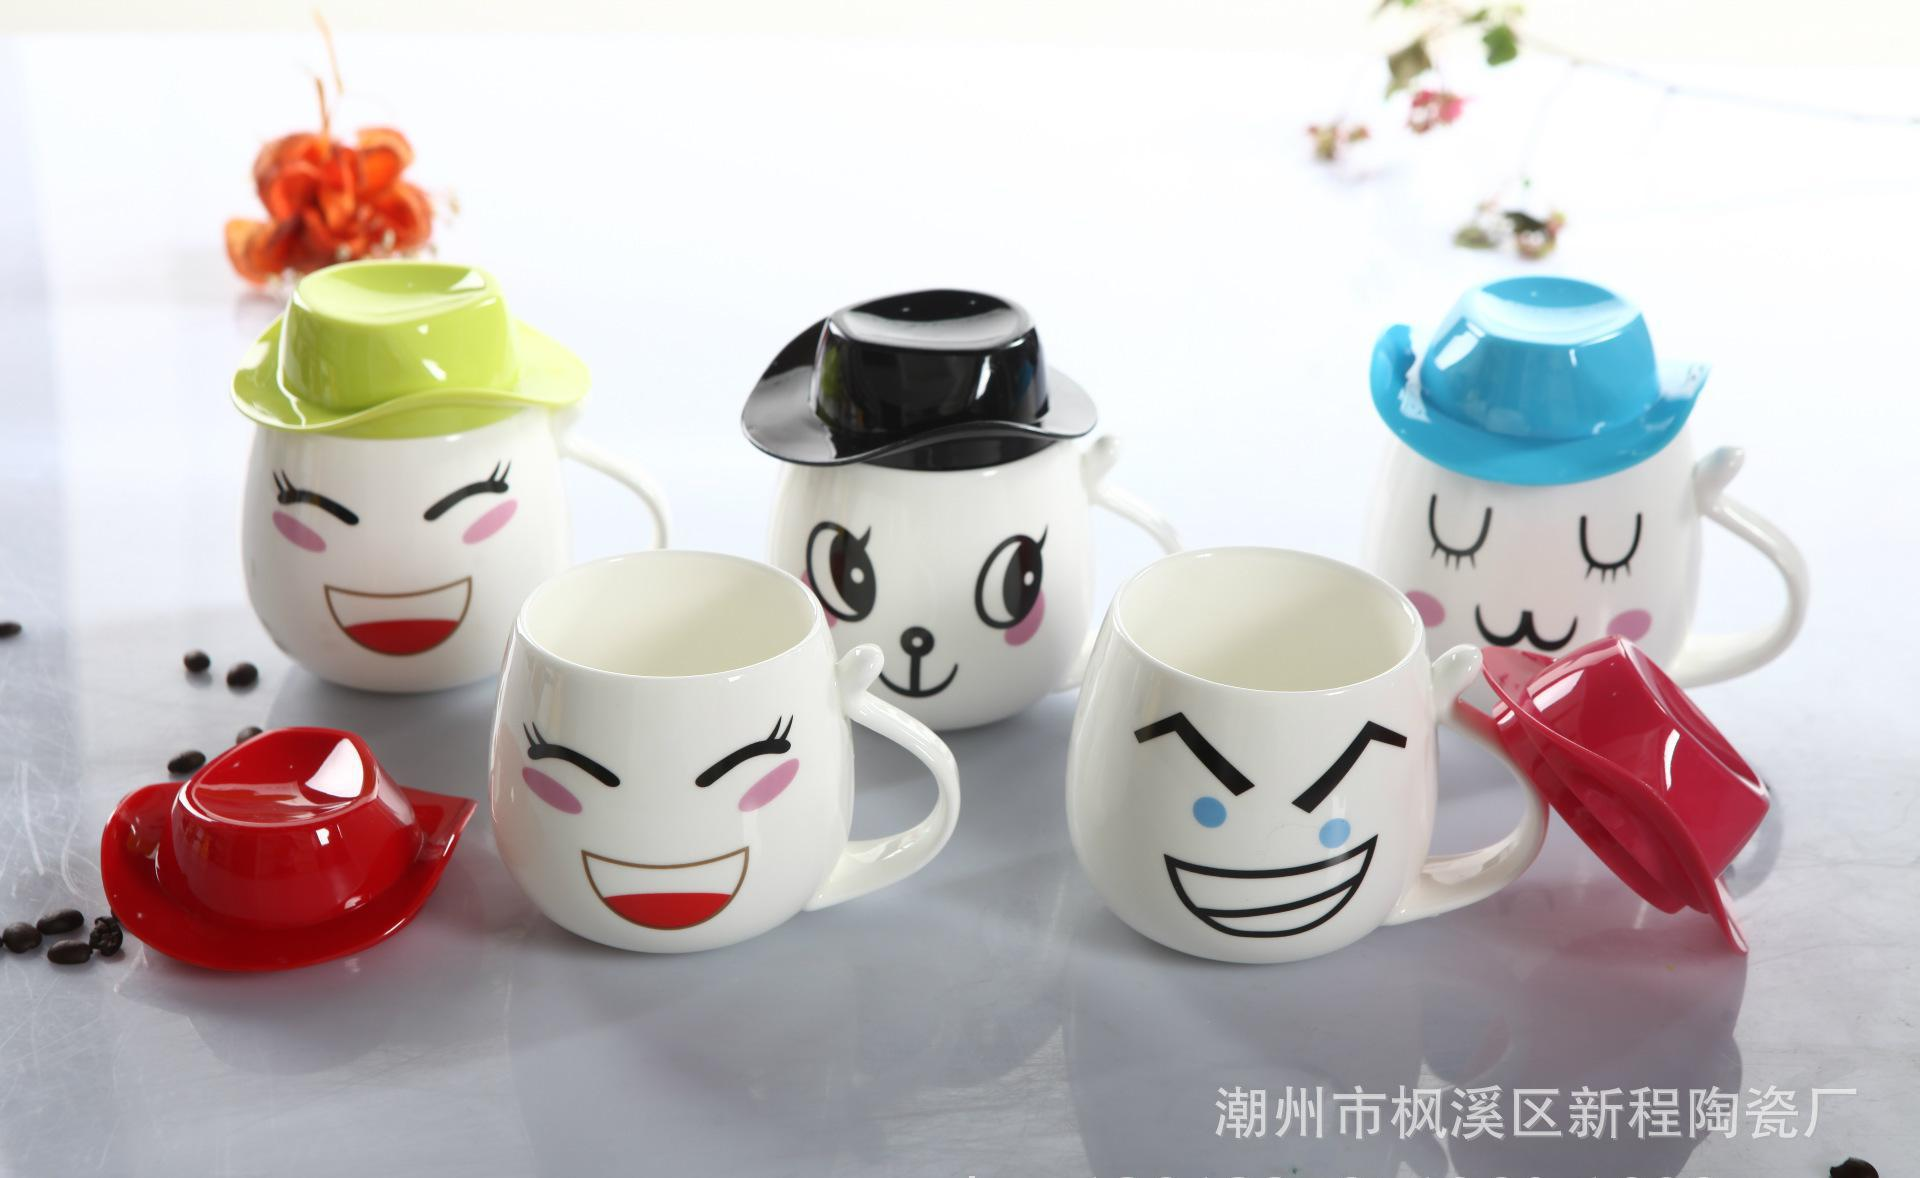cup: (1066, 538, 1554, 972), (1356, 289, 1813, 739), (487, 550, 963, 963), (235, 258, 680, 698), (769, 337, 1189, 735)
